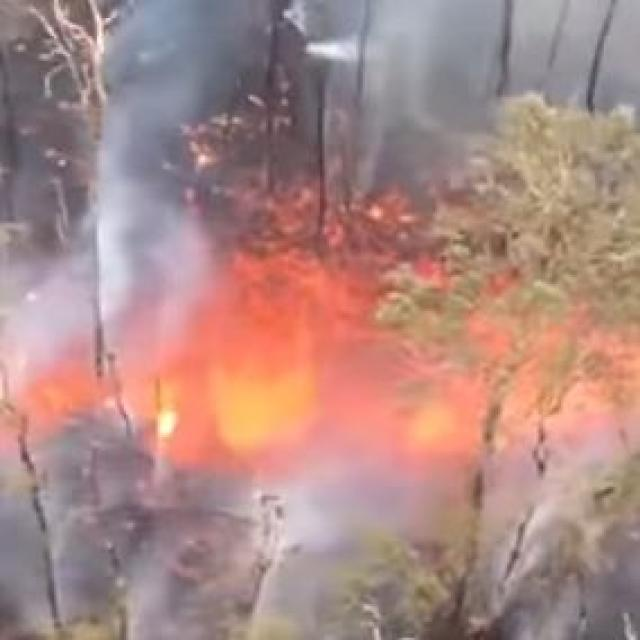Fire: (303, 262, 593, 451), (200, 249, 330, 375), (205, 379, 299, 451), (122, 374, 186, 465)
Smoke: (86, 9, 280, 202), (307, 2, 638, 94), (76, 179, 185, 302)
